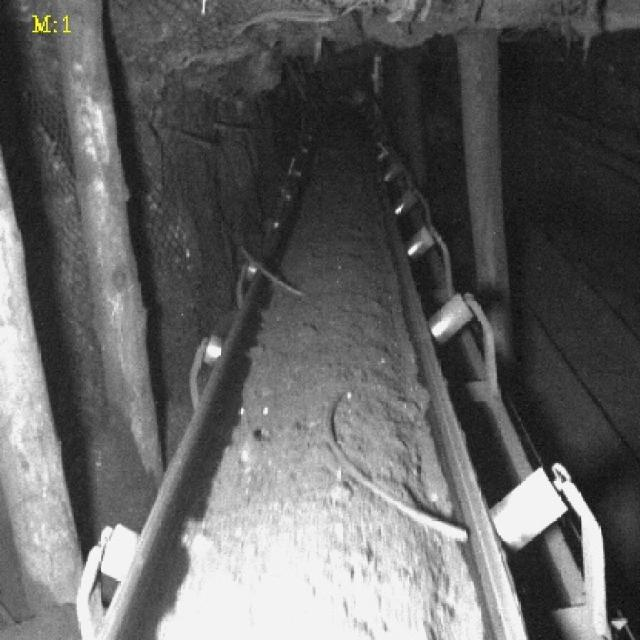bolt: (320, 390, 471, 544), (240, 243, 308, 302)
